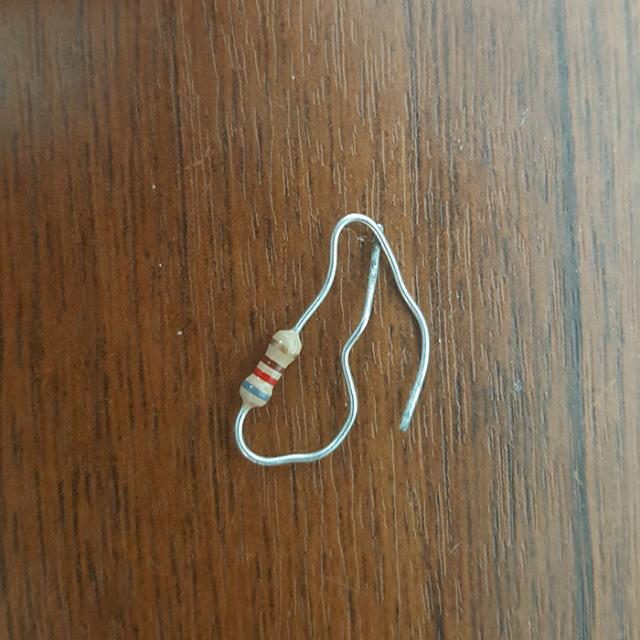brown: (262, 356, 281, 371)
gold: (272, 337, 294, 357)
grey: (243, 381, 268, 401)
red: (254, 368, 276, 384)
resistor: (227, 319, 308, 412)
